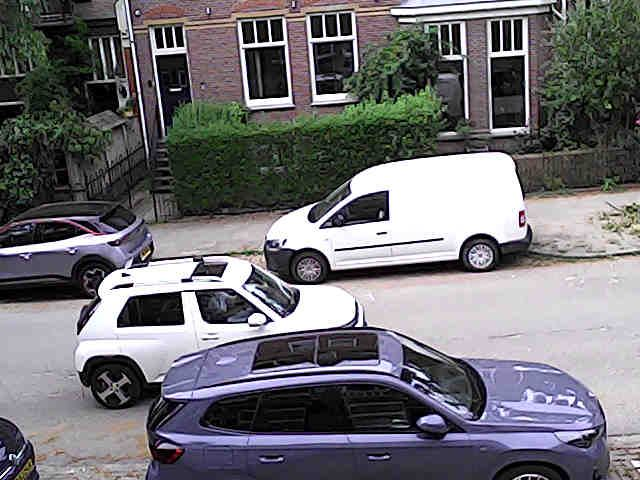suv: (146, 328, 608, 479), (75, 256, 364, 407), (0, 201, 153, 296), (0, 417, 38, 479)
whitevan: (264, 152, 531, 282)
